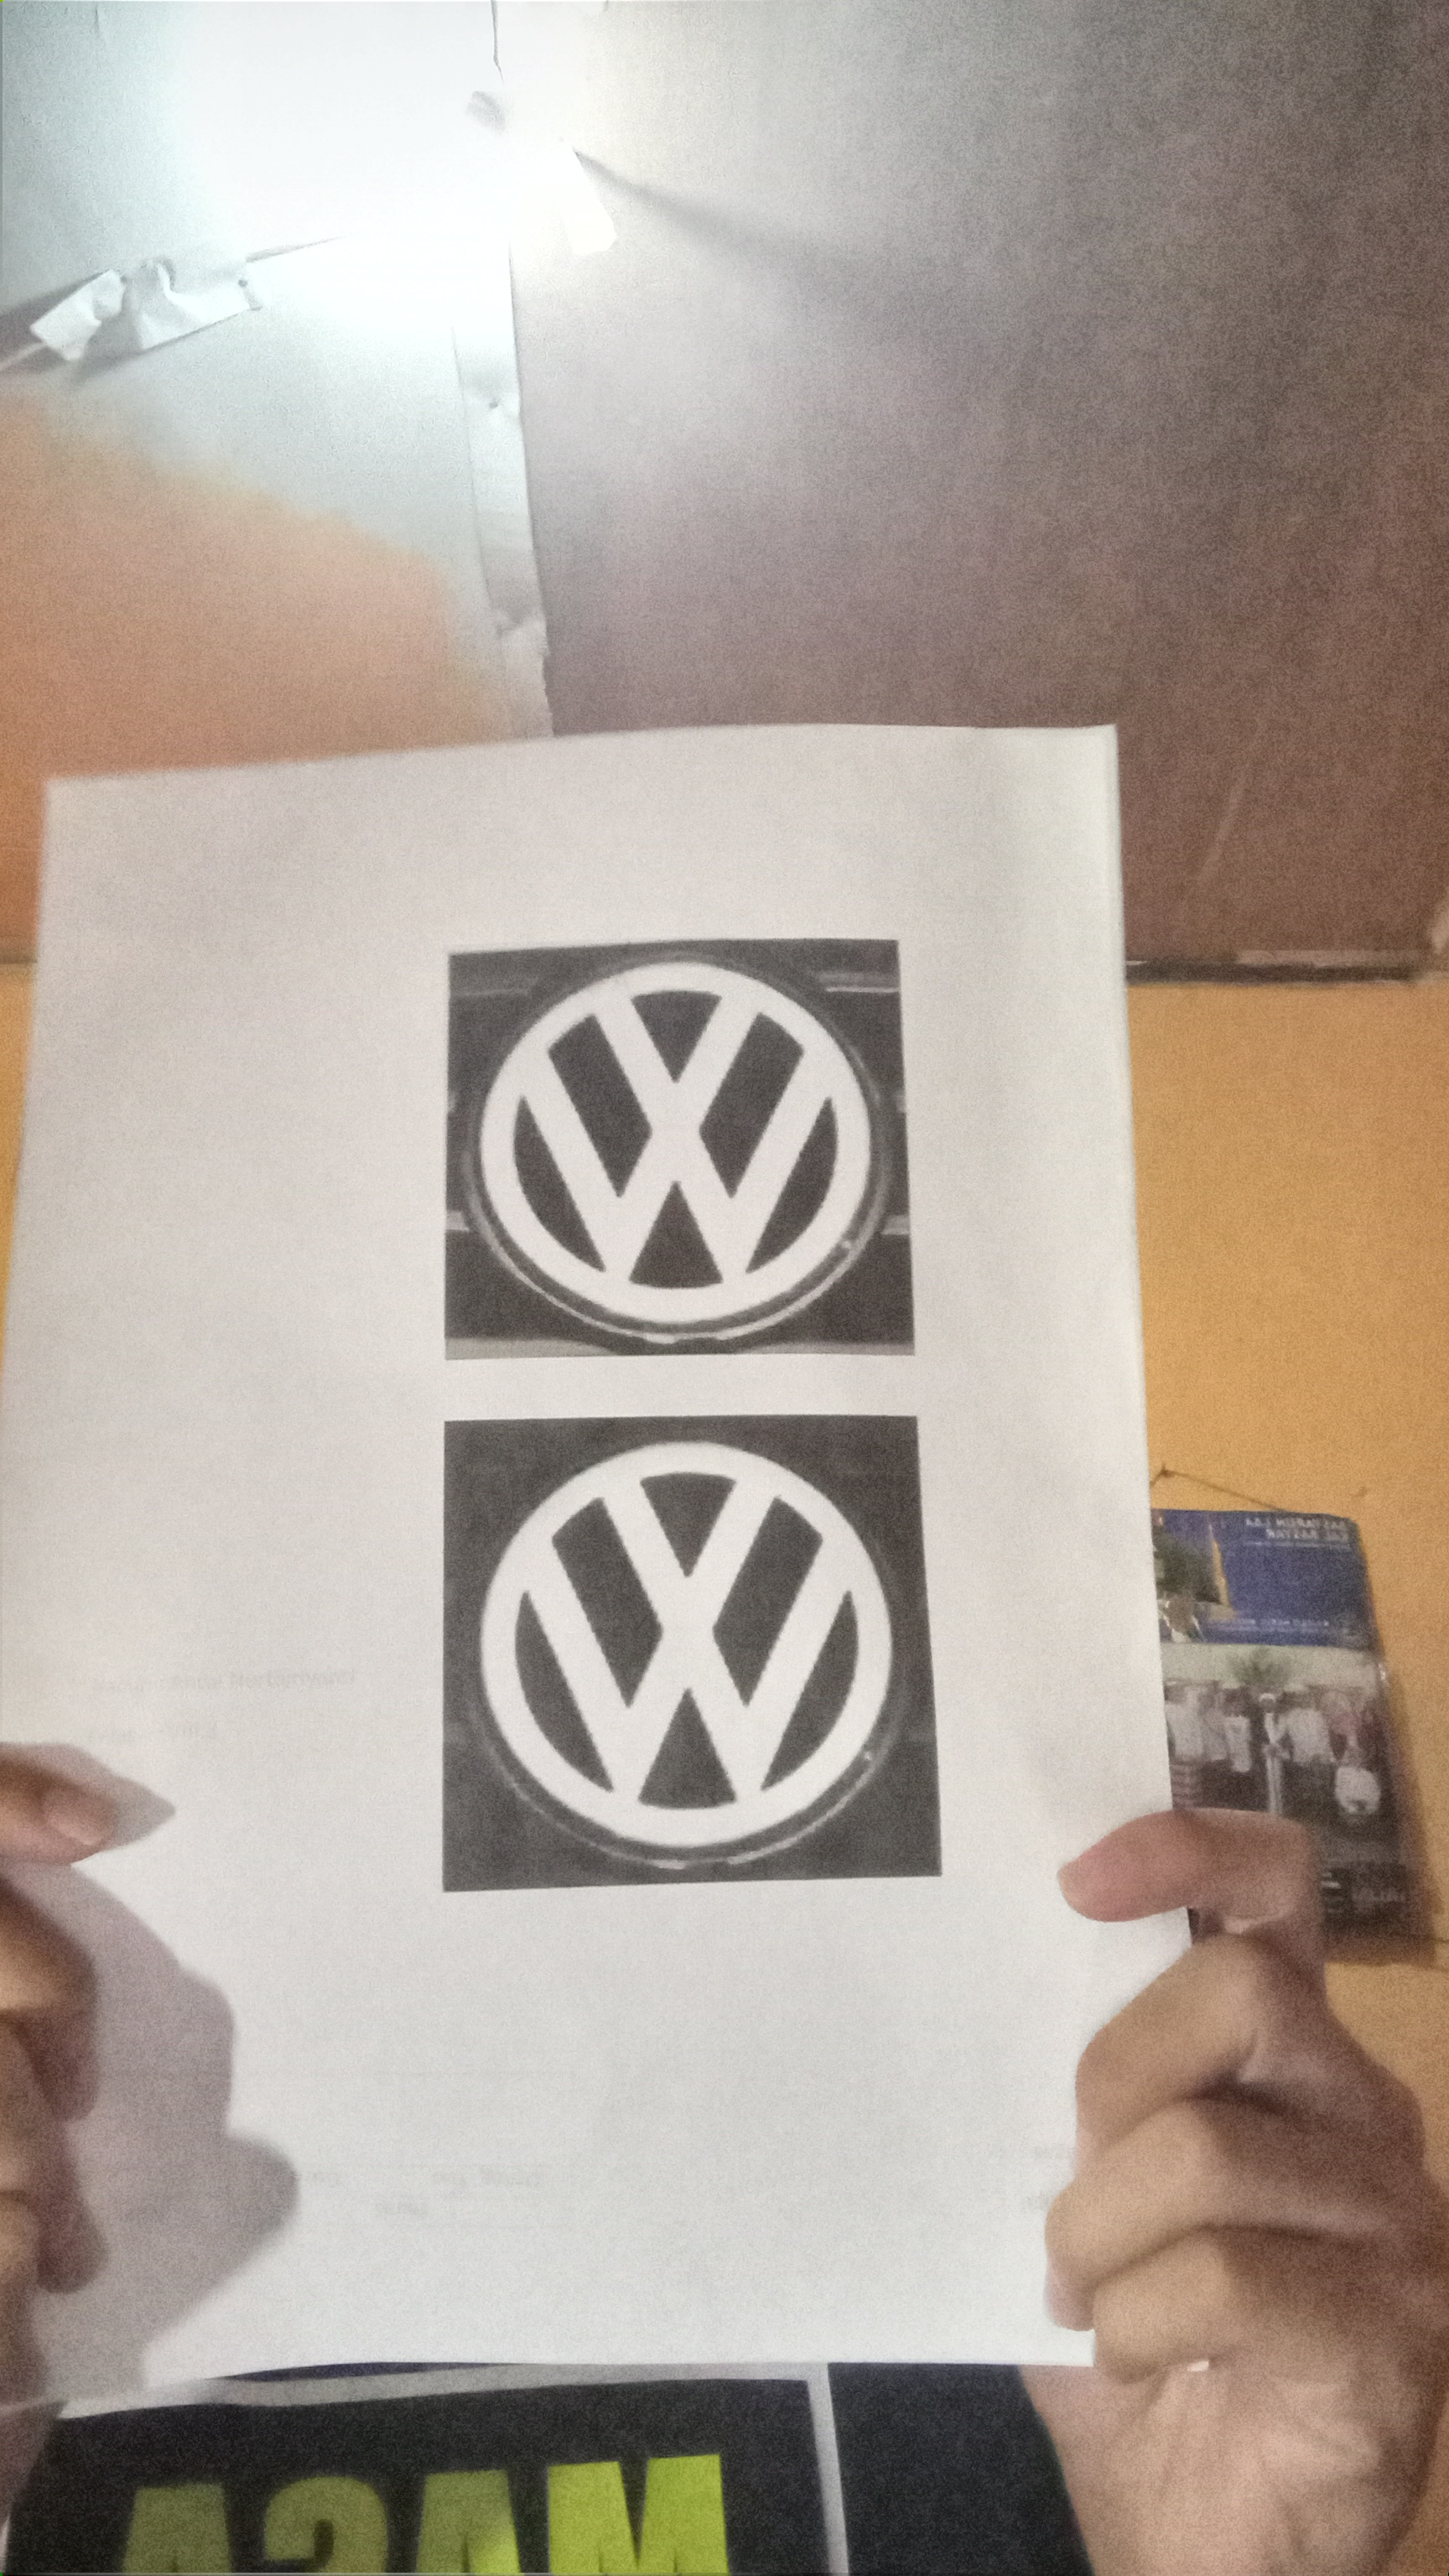Volkswagen: (446, 1421, 918, 1890), (453, 955, 902, 1364)
